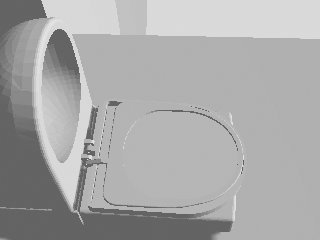lid_1: (80, 100, 248, 217)
